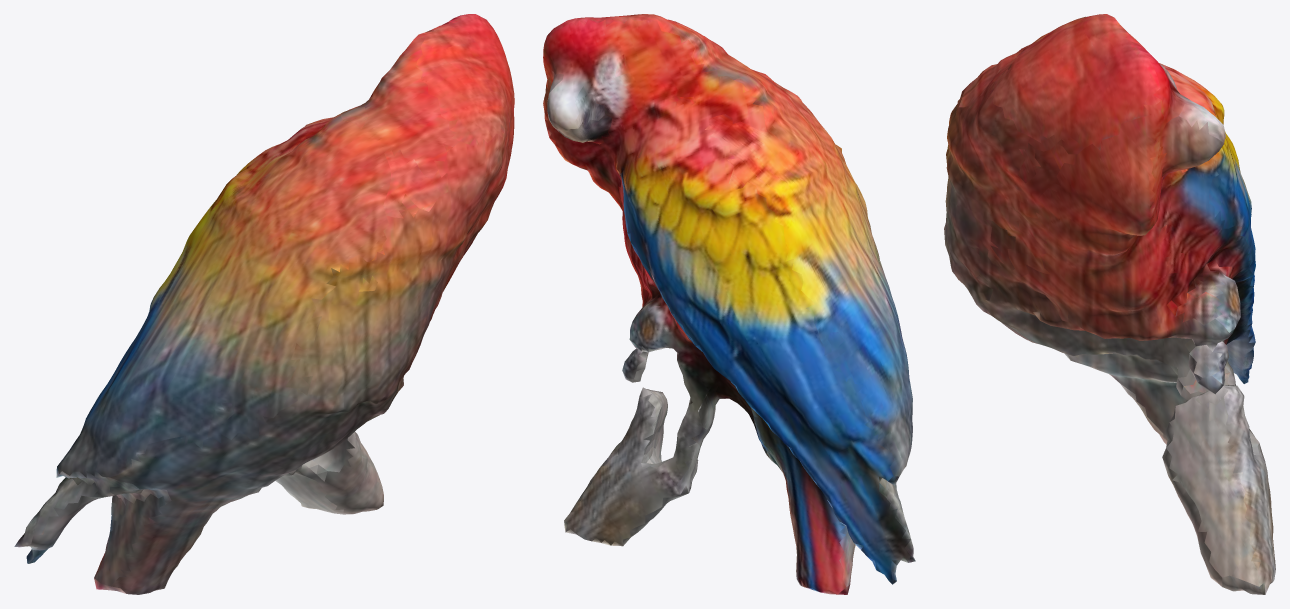
File: downloaded_model.glb
The picture shows the model from 3 angles, left to right: view 1: azimuth 30°, elevation 25°; view 2: azimuth 150°, elevation 25°; view 3: azimuth 270°, elevation 25°; orthographic projection. The views are drawn at different scales.
Parts seen in each view (by area): view 1: world; view 2: world; view 3: world.
Boxes of the visible parts, x1=… form: world: x1=14, y1=14, x2=514, y2=594; world: x1=543, y1=14, x2=915, y2=594; world: x1=944, y1=14, x2=1275, y2=594.
Size of the model in its own units: 0.7875 by 0.8909 by 0.4591.
Materials: 1 (1 with a texture image).
